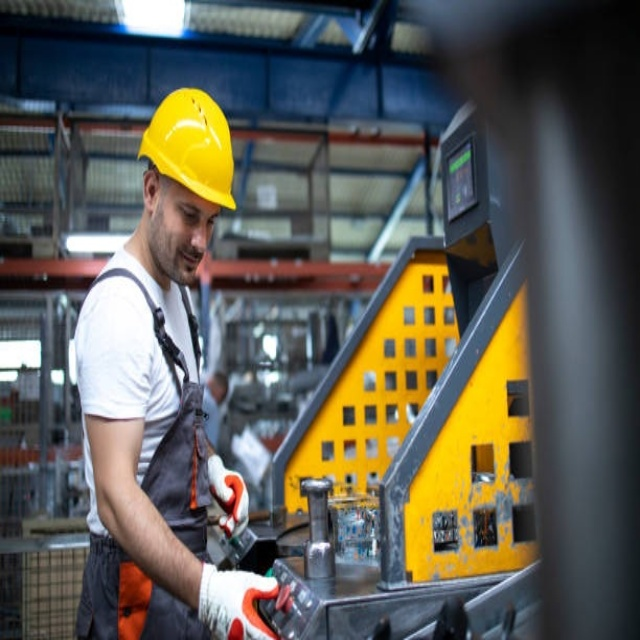Guantes: (198, 562, 286, 640), (207, 454, 249, 539)
Sin_gafas: (159, 190, 223, 229)
Sin_mascara: (169, 248, 201, 279)
